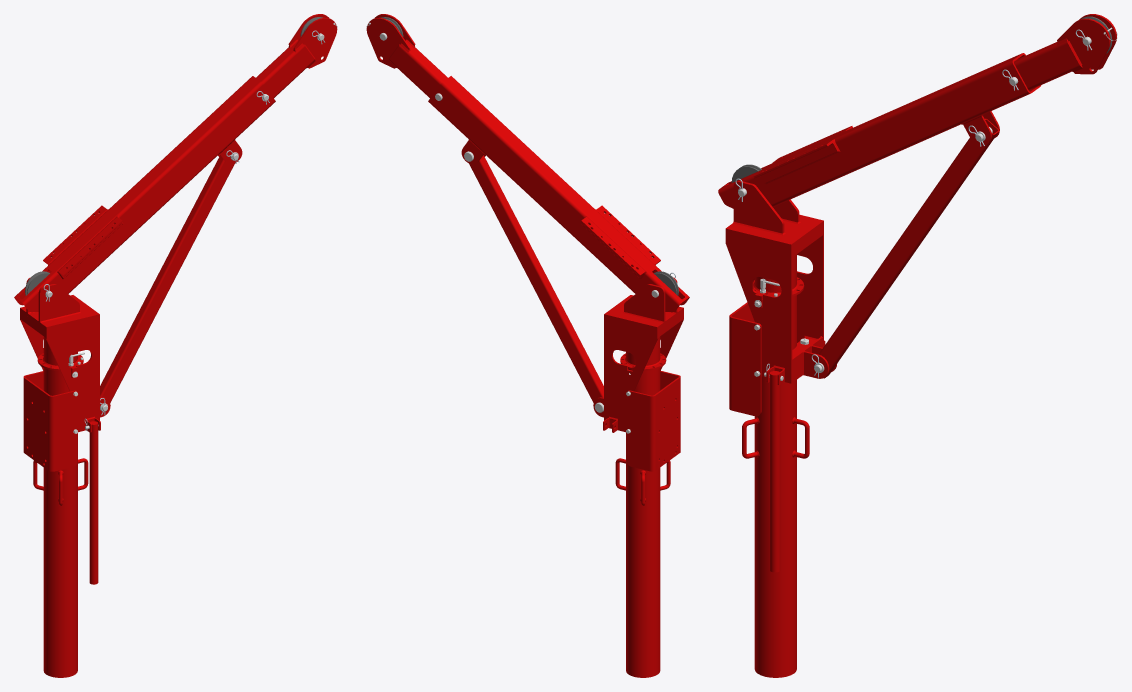
3 renders of one model, left to right at view 1: azimuth 30°, elevation 25°; view 2: azimuth 150°, elevation 25°; view 3: azimuth 330°, elevation 25°, orthographic. The views are drawn at different scales.
Visible parts, largest first — view 1: crane_5pt30_-__bbe000000000000000__1; view 2: crane_5pt30_-__bbe000000000000000__1; view 3: crane_5pt30_-__bbe000000000000000__1.
Boxes of the visible parts, <box> form: crane_5pt30_-__bbe000000000000000__1: <box>14,14,337,677</box>; crane_5pt30_-__bbe000000000000000__1: <box>366,14,689,677</box>; crane_5pt30_-__bbe000000000000000__1: <box>718,14,1117,677</box>.
Bounding box in the file's own units: 1801 × 3196 × 370.
